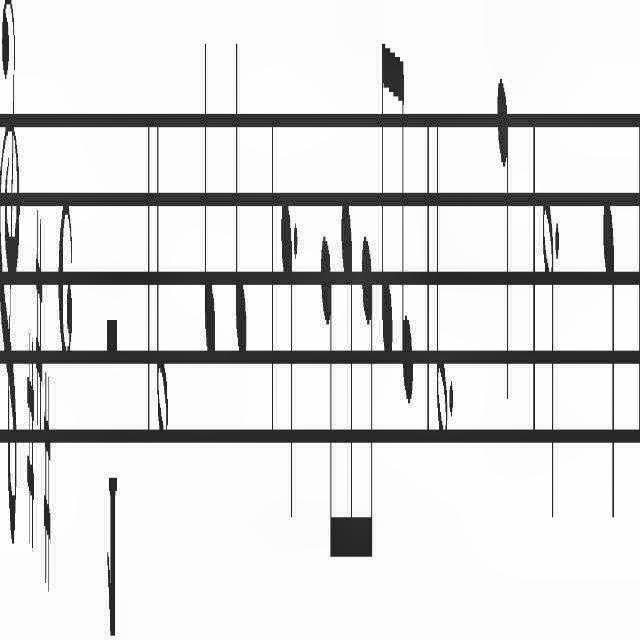Bass-clef: (1, 1, 20, 557)
Diez: (25, 323, 35, 552), (35, 186, 43, 427), (43, 364, 51, 596)
Eighth-note: (394, 24, 414, 408), (340, 189, 352, 587), (361, 226, 374, 584), (381, 19, 394, 364), (320, 236, 332, 572)
Half-note: (541, 198, 555, 530), (155, 118, 169, 446), (436, 110, 448, 446)
Quarter-note: (601, 195, 615, 533), (203, 29, 217, 364), (496, 70, 509, 408), (235, 29, 248, 358), (280, 195, 292, 537)
